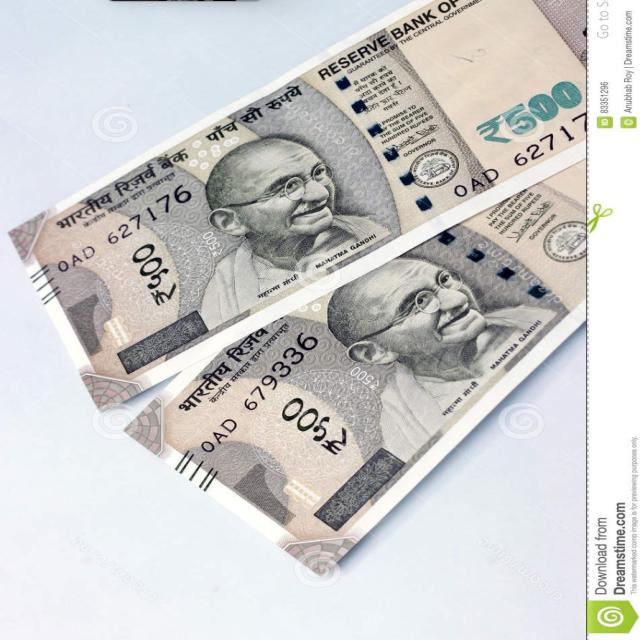500IndianRupees: (174, 206, 587, 550)
